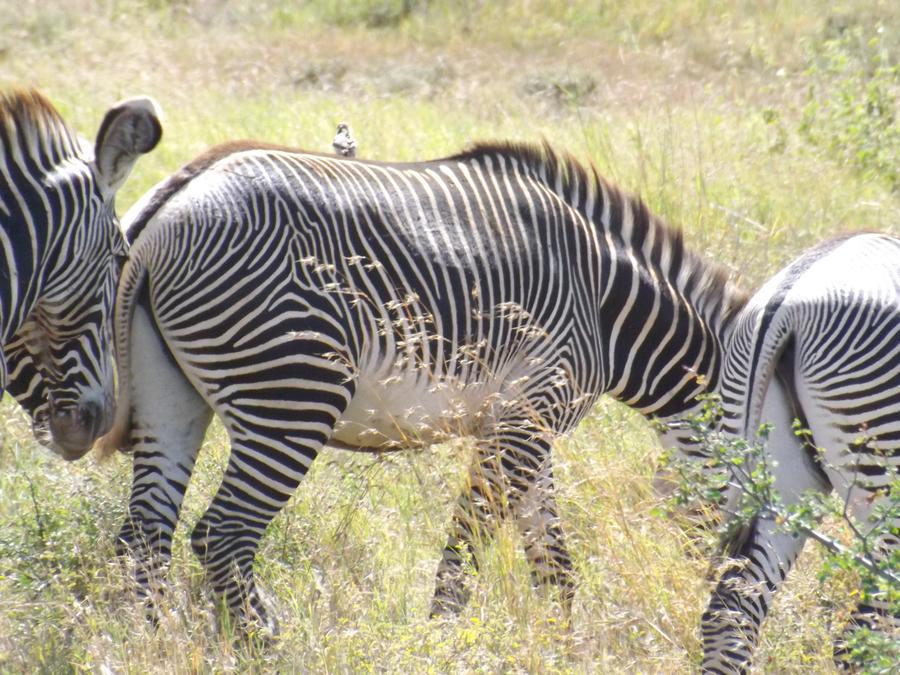zebra_grevys: (145, 131, 569, 443)
